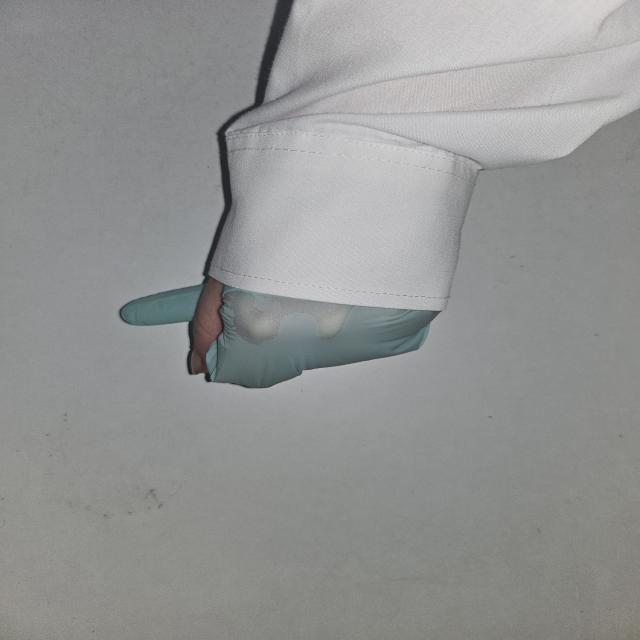glove_partial: (117, 276, 444, 390)
